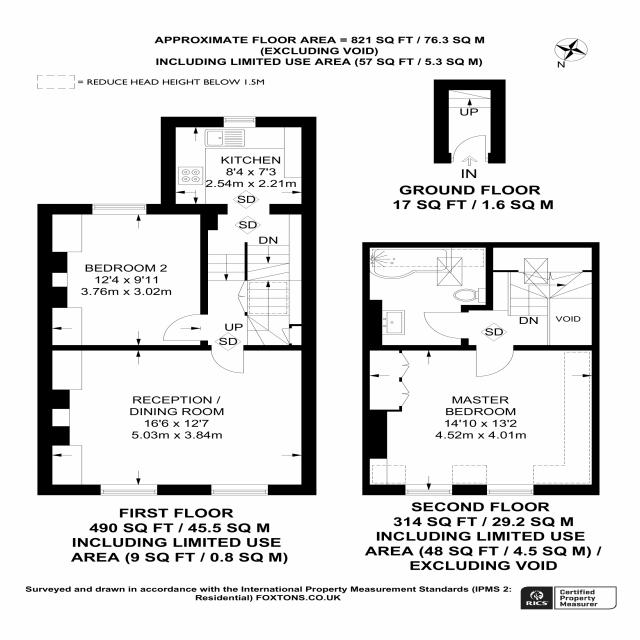DOOR: (475, 344, 516, 378), (161, 313, 209, 342), (423, 311, 470, 340), (209, 344, 245, 374)
ROOM: (36, 344, 318, 496), (160, 116, 317, 374), (361, 345, 600, 496), (37, 204, 209, 351)
WINDOW: (99, 484, 158, 496), (211, 484, 269, 496), (91, 203, 147, 215), (404, 484, 454, 496), (486, 484, 535, 496), (222, 116, 257, 128)
